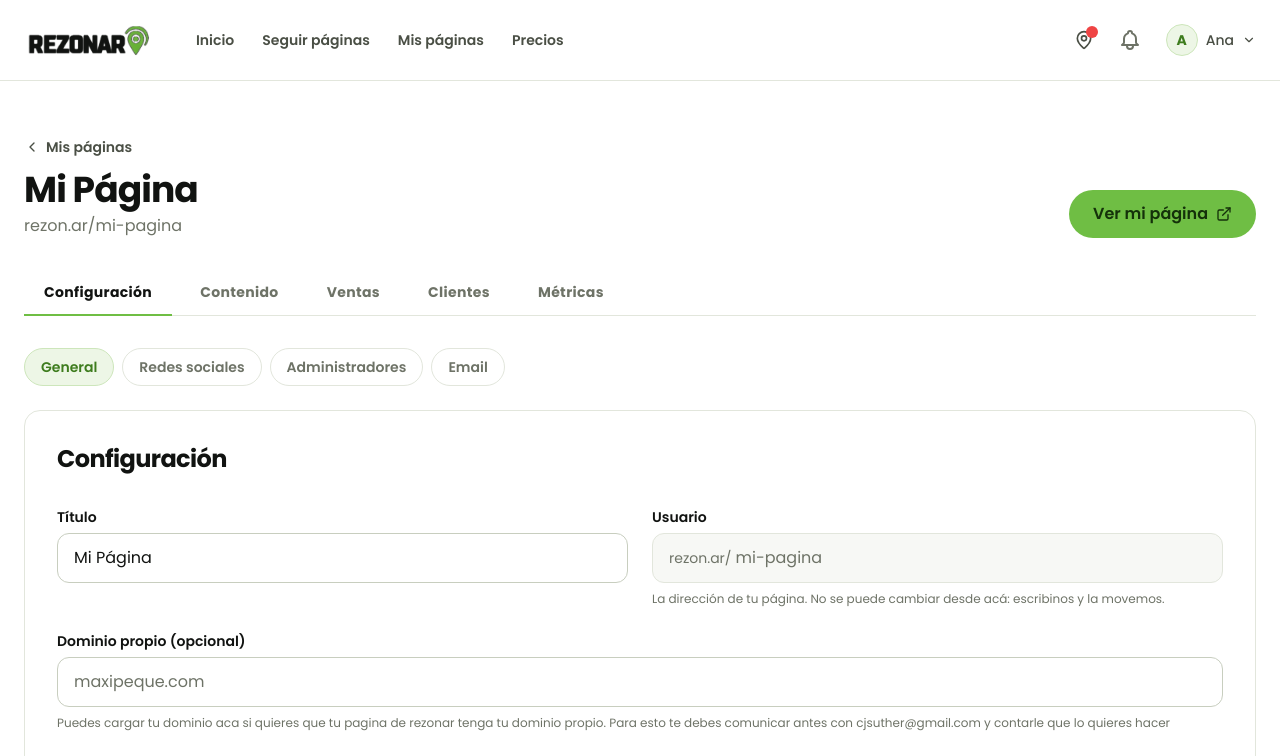
Test: PageEditor — modales de link › imagen al crear un link › en un grupo de galería la imagen es obligatoria
This screenshot has width=1280, height=756.
Check: the heading "Mi Página" is shown, box [24,170,198,210]
Click the button "Contenido".
click(239, 293)  # box [180,270,299,316]
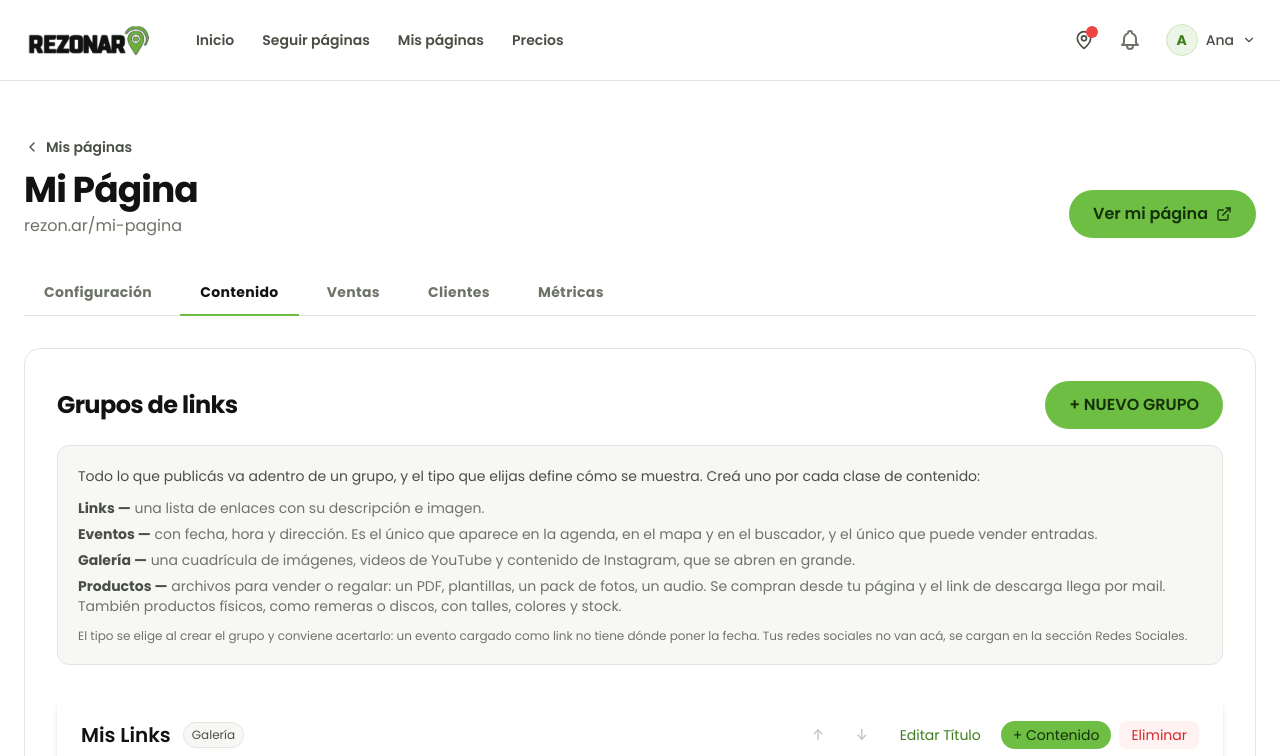
Check: the heading "Grupos de links" is shown, box [57,389,238,421]
Click the button "+ Contenido".
click(1056, 735)  # box [1001,721,1111,749]
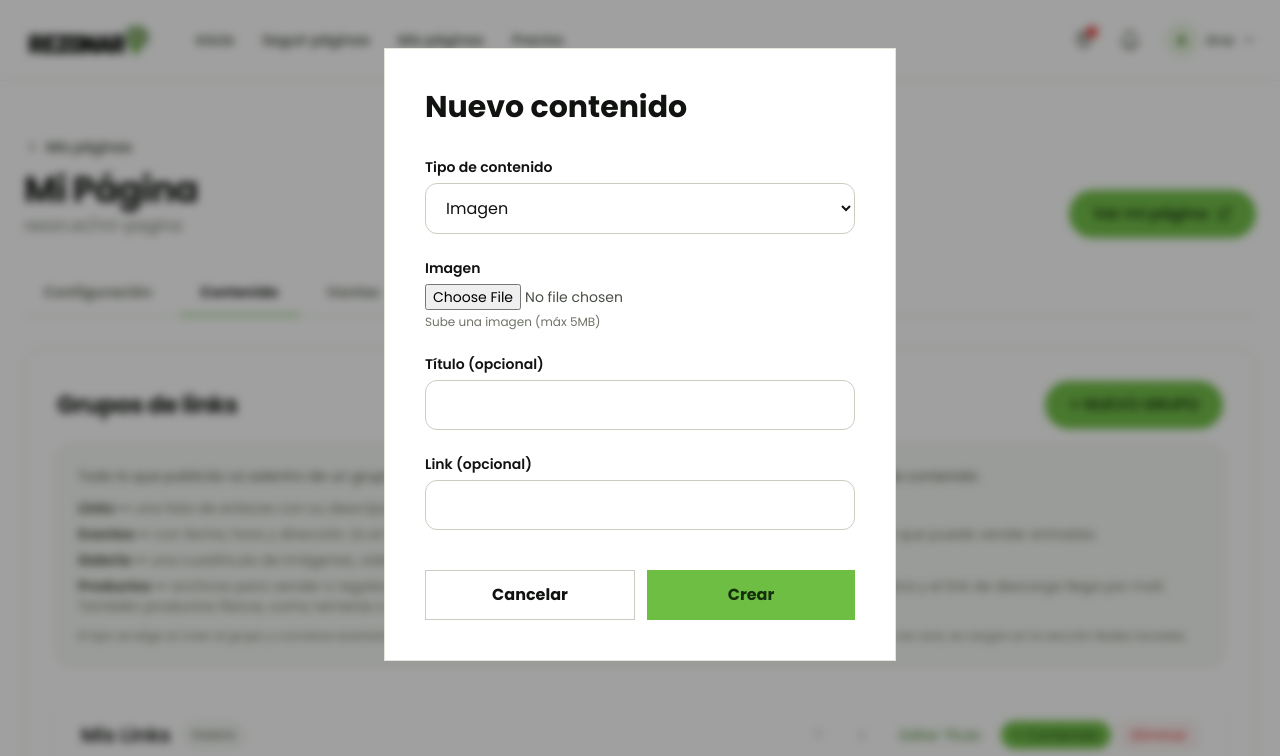
Check: the button "Crear" is shown, box [647,570,855,620]
